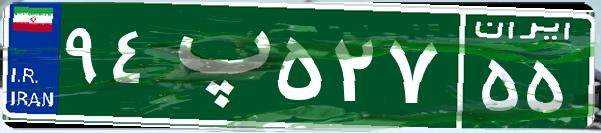2: (330, 28, 385, 110)
4: (110, 28, 158, 105)
5: (273, 28, 330, 110), (475, 38, 525, 113), (525, 38, 570, 115)
7: (385, 28, 445, 110)
9: (57, 26, 110, 107)
پ: (158, 15, 273, 115)
